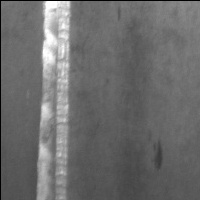inclusion: (149, 137, 166, 173)
scratches: (34, 1, 73, 200)
